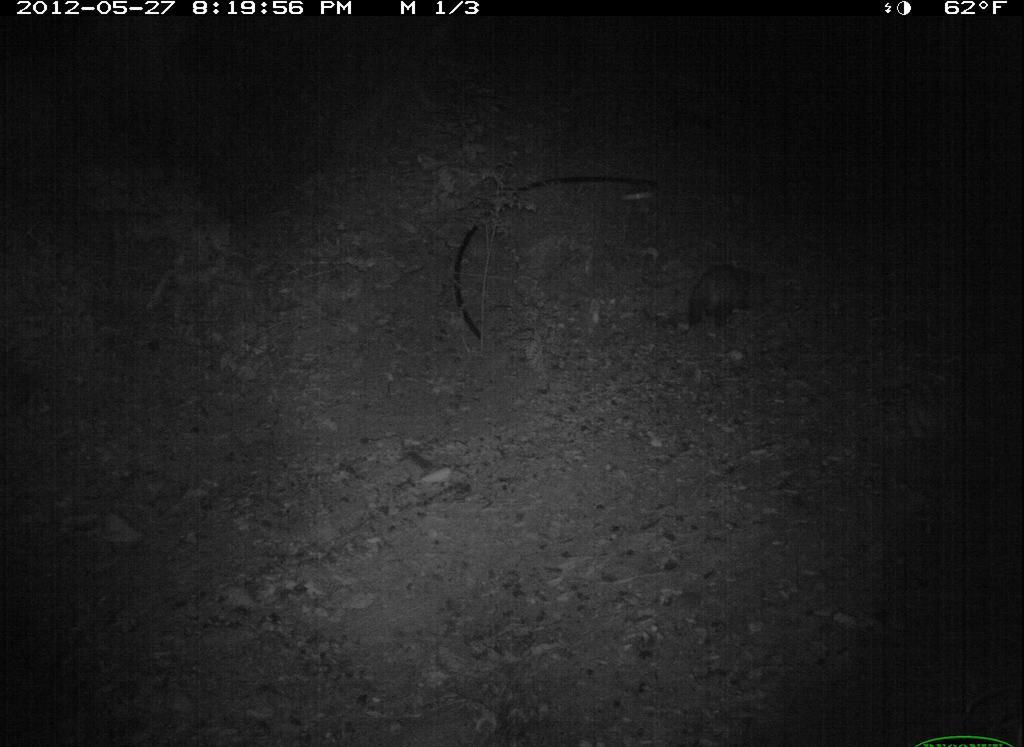opossum: (662, 251, 776, 328)
